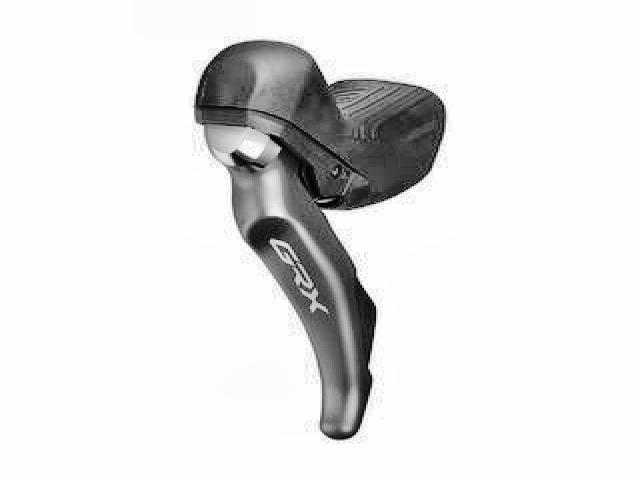sti_shifter: (194, 39, 440, 442)
